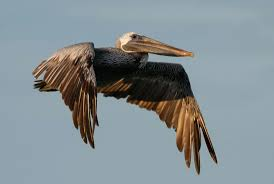pelican: (34, 31, 219, 176)
